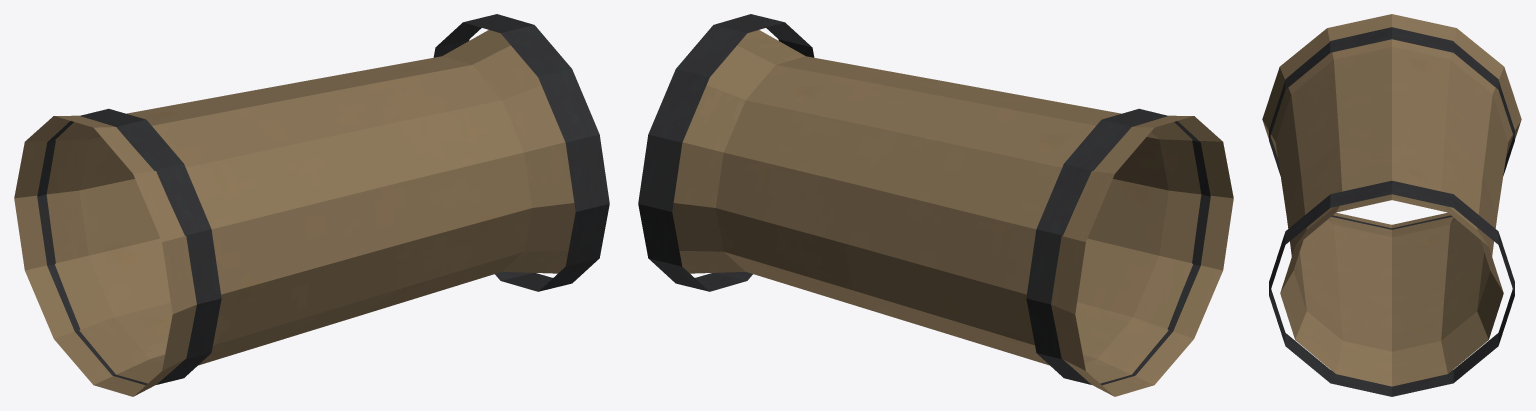
The model's file is eq_present_2_arm.glb.
The picture shows the model from 3 angles, left to right: view 1: azimuth 30°, elevation 25°; view 2: azimuth 150°, elevation 25°; view 3: azimuth 270°, elevation 25°; orthographic projection. The views are drawn at different scales.
Visible parts, largest first — view 1: eq_present_2_arm; view 2: eq_present_2_arm; view 3: eq_present_2_arm.
Part boxes in pixels (x1=…): eq_present_2_arm: x1=14, y1=14, x2=609, y2=396; eq_present_2_arm: x1=638, y1=14, x2=1233, y2=396; eq_present_2_arm: x1=1262, y1=14, x2=1521, y2=396.
Bounding box in the file's own units: 0.2423 × 0.1352 × 0.1508.
2 materials, 2 textured.
